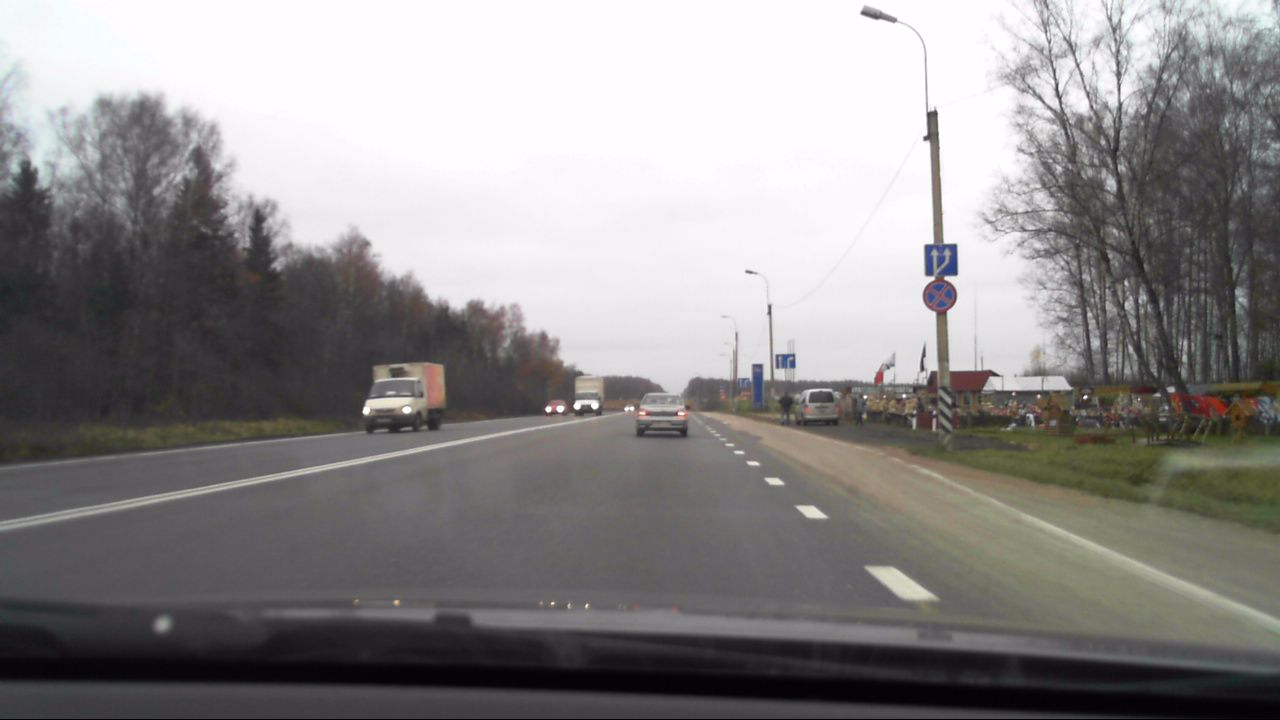No Parking: (922, 280, 957, 311)
